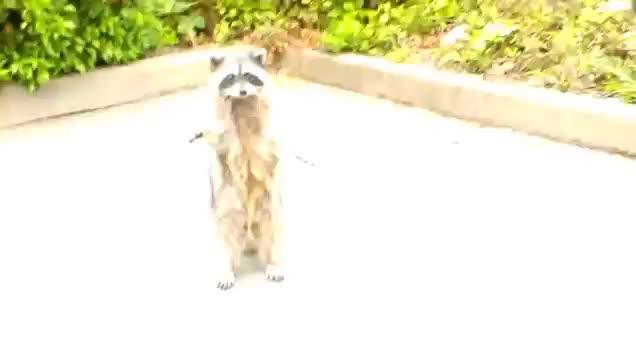raccoon: (190, 41, 318, 290)
